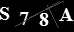7: (18, 11, 30, 26)
8: (38, 12, 50, 27)
A: (59, 8, 74, 22)
S: (1, 6, 10, 21)
